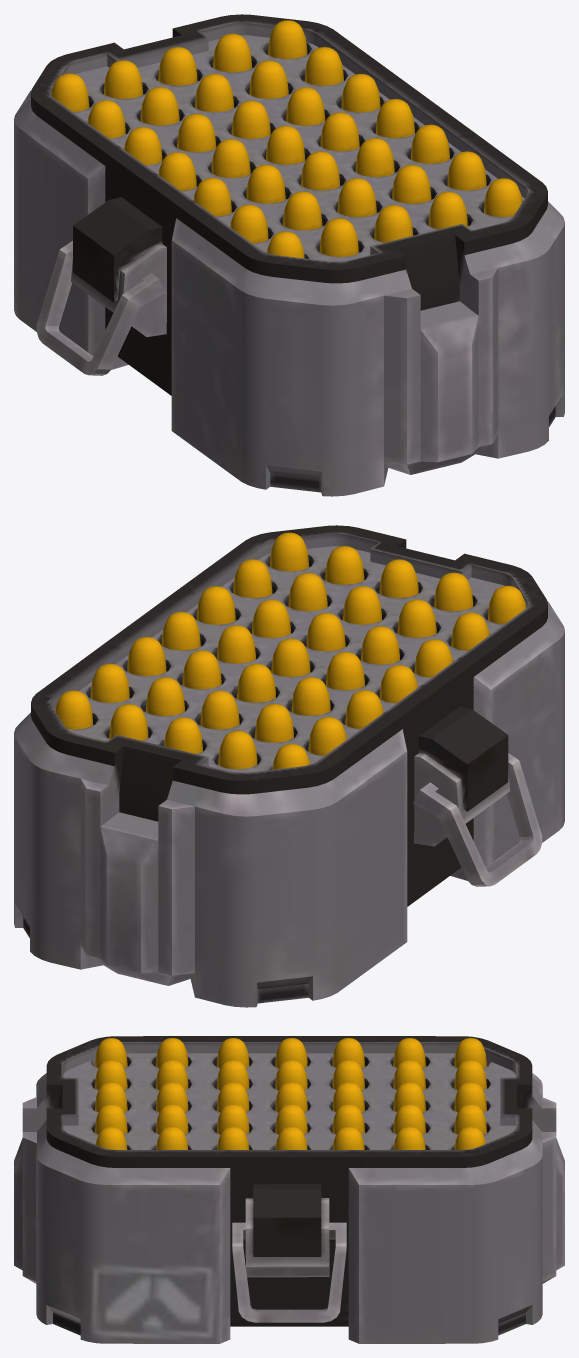
File: Prop_Ammo.glb
The picture shows the model from 3 angles, top to bottom: view 1: azimuth 30°, elevation 25°; view 2: azimuth 150°, elevation 25°; view 3: azimuth 270°, elevation 25°; orthographic projection. The views are drawn at different scales.
Visible parts, largest first — view 1: Prop_Ammo; view 2: Prop_Ammo; view 3: Prop_Ammo.
Boxes of the visible parts, box(x1,y1,x2,y2) form: Prop_Ammo: box(14, 14, 564, 496); Prop_Ammo: box(14, 525, 564, 1007); Prop_Ammo: box(14, 1036, 564, 1343).
Size of the model in its own units: 0.5706 by 0.2819 by 0.7229.
Materials: 1 (1 with a texture image).
